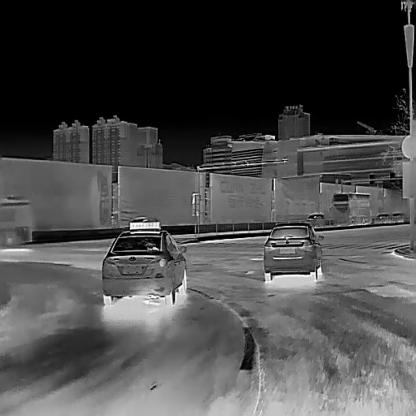bus: (0, 194, 32, 245), (329, 192, 372, 224)
car: (99, 217, 188, 307), (263, 219, 323, 281), (305, 210, 324, 220), (374, 212, 389, 224), (392, 211, 404, 221)
